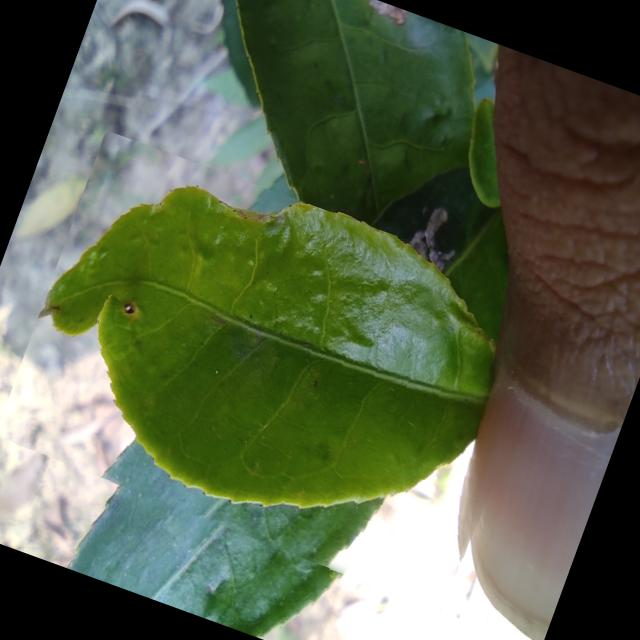Category C 4-7 days: (0, 130, 571, 618)
